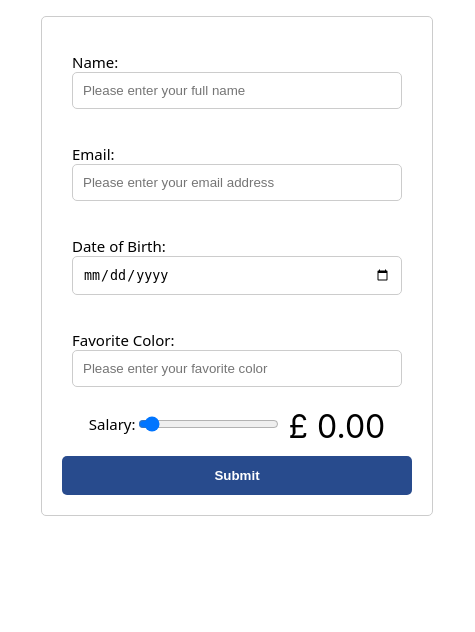
FormComponent › does not submit the form when there are validation errors
In the field labelled "Name": [237, 90] box [72, 72, 402, 109], type "123"
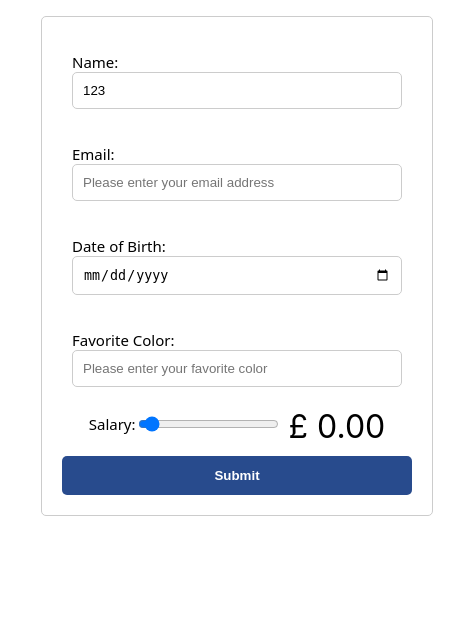
Click the button "Submit": [237, 476] box [62, 456, 412, 495]
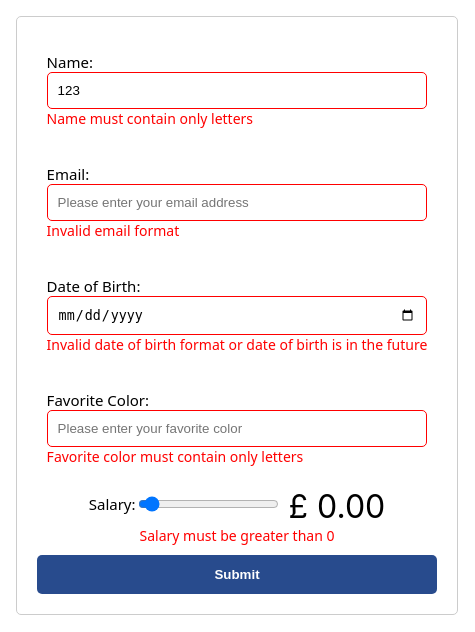
expect the text "Name must contain only letters" is shown: met, box [47, 109, 253, 128]
